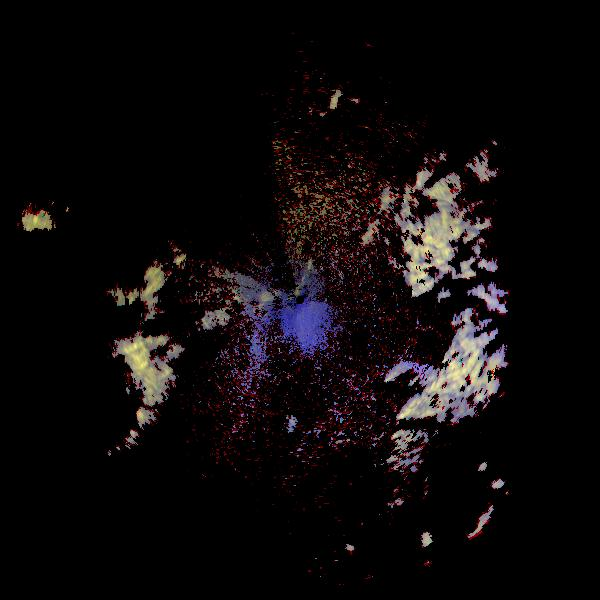roost: (286, 417, 295, 426)
